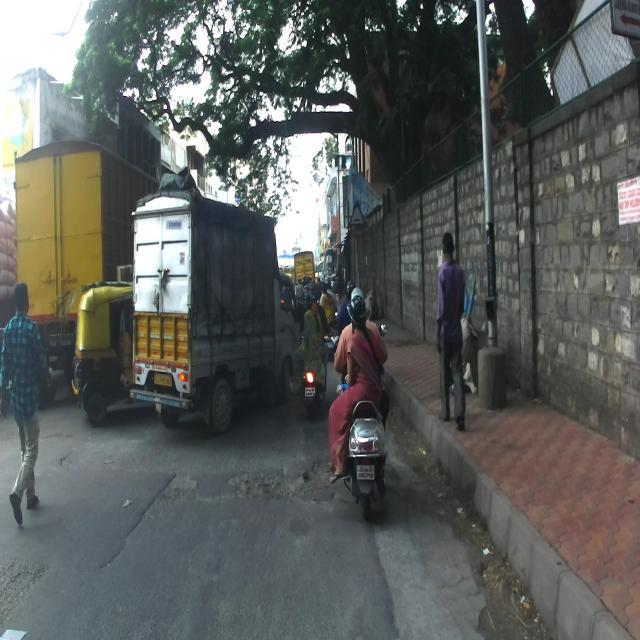Pothole: (230, 459, 333, 502), (170, 471, 198, 490)
